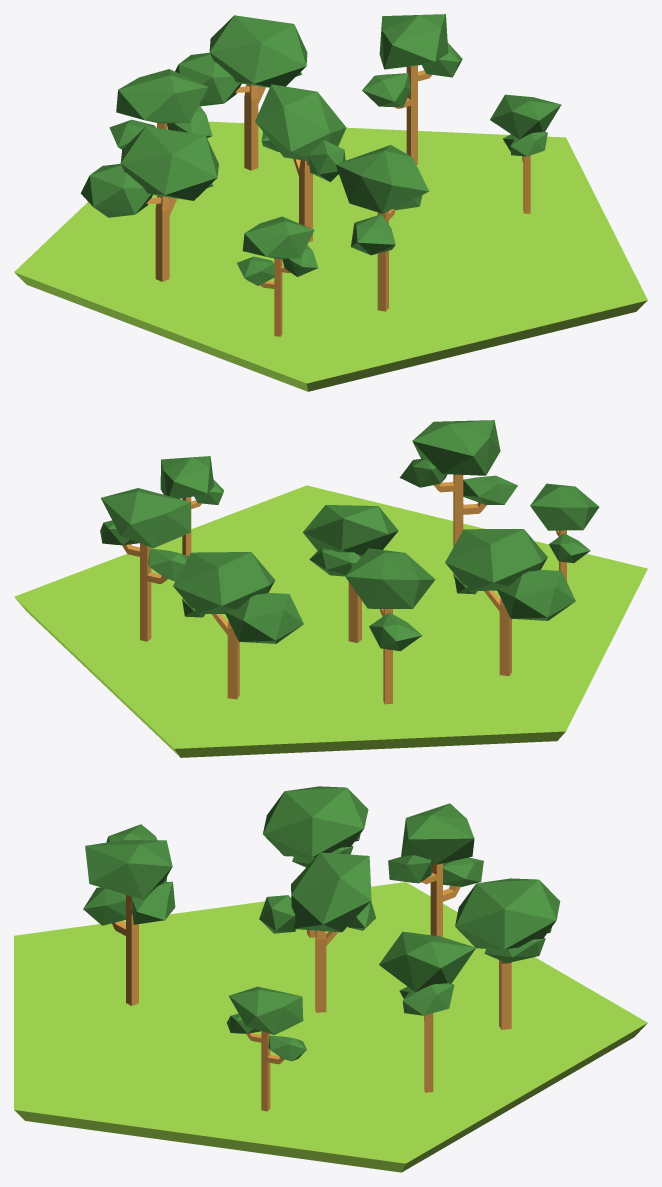
File: TuileForestLeaf3.fbx
The picture shows the model from 3 angles, top to bottom: view 1: azimuth 30°, elevation 25°; view 2: azimuth 150°, elevation 25°; view 3: azimuth 270°, elevation 25°; orthographic projection. The views are drawn at different scales.
Visible parts, largest first — view 1: G_F_leaf.002; view 2: G_F_leaf.002; view 3: G_F_leaf.002.
Part boxes in pixels (x1,y1,x2,y2): G_F_leaf.002: [14, 14, 647, 391]; G_F_leaf.002: [14, 420, 647, 757]; G_F_leaf.002: [14, 786, 647, 1172].
Bounding box in the file's own units: 111 × 32.35 × 105.
